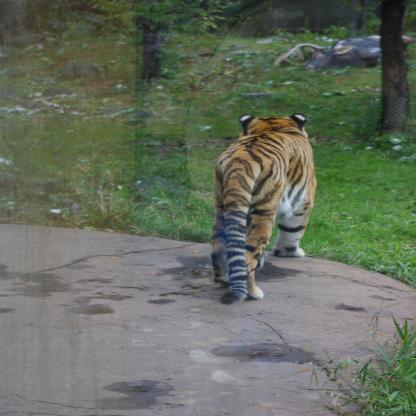Tiger: (208, 115, 319, 302)
